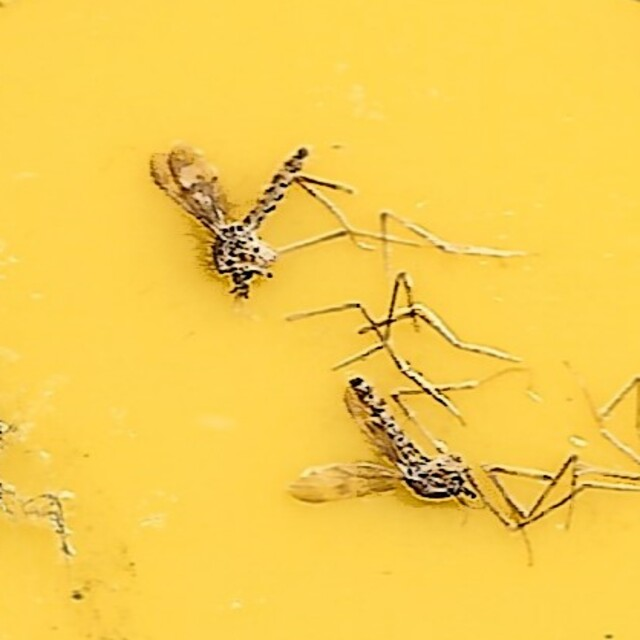Nematocera: (277, 373, 487, 510), (153, 130, 320, 289)
